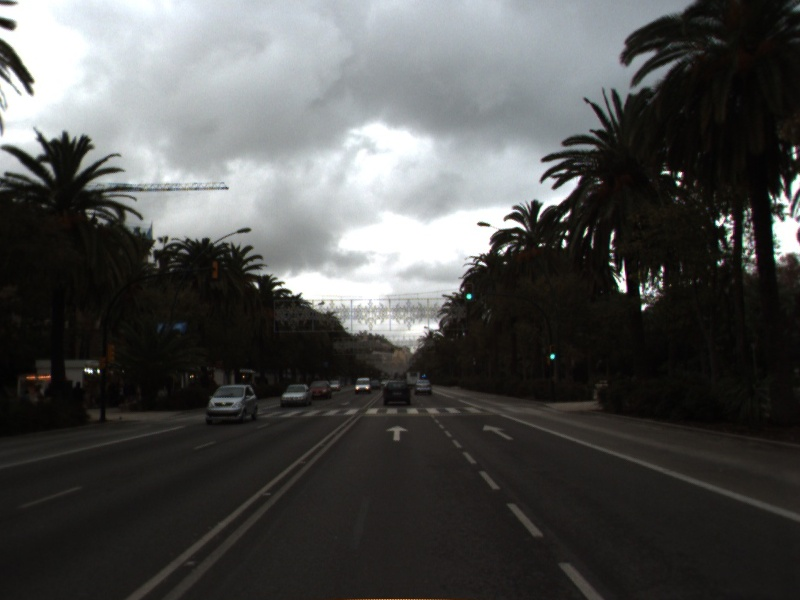STRAIGHT: (480, 422, 515, 442), (383, 423, 411, 442)
